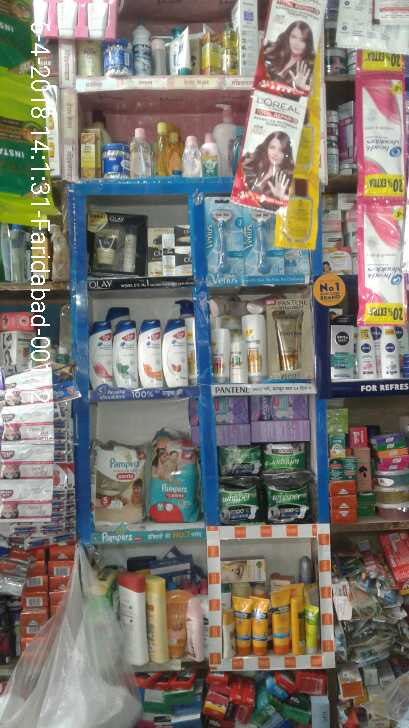venus: (204, 196, 243, 283), (243, 206, 280, 285)
